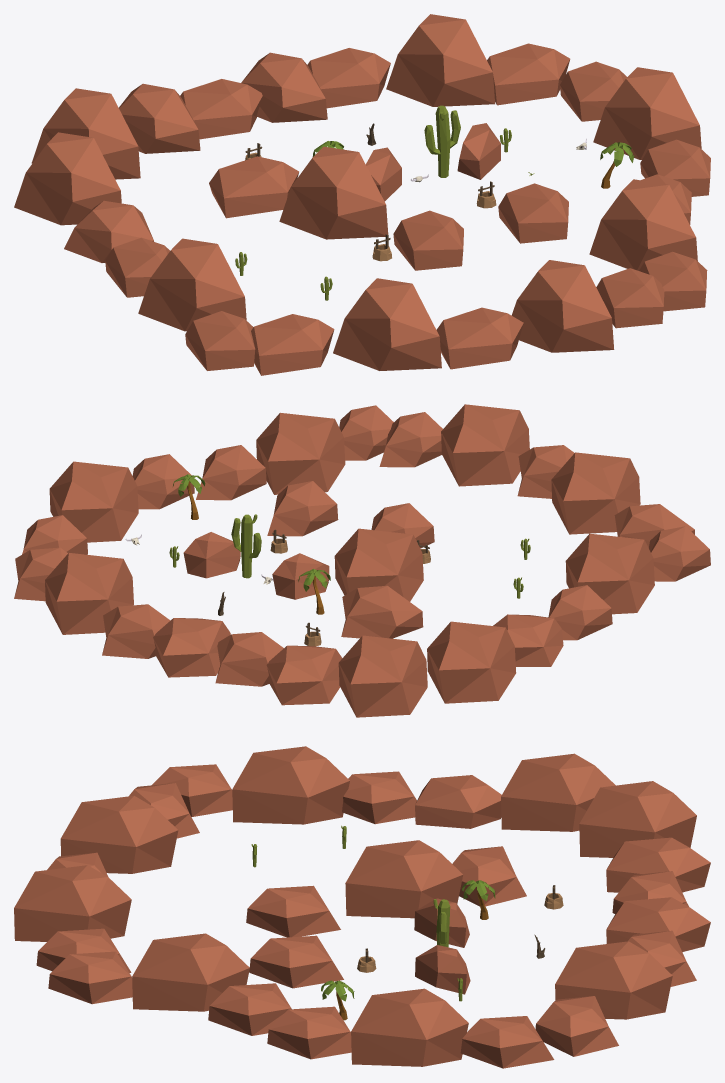
Rendered from Obstracle.fbx.
3 views of the same model, one above another, from view 1: azimuth 30°, elevation 25°; view 2: azimuth 150°, elevation 25°; view 3: azimuth 270°, elevation 25° (orthographic). The views are drawn at different scales.
Parts seen in each view (by area): view 1: Mixed_Rock_01__12_, Mixed_Rock_01__2_, Mixed_Rock_01__8_, Mixed_Rock_01__25_, Mixed_Rock_01__24_, Mixed_Rock_01__13_, Mixed_Rock_01__19_, Mixed_Rock_01__5_, Mixed_Rock_01__22_, Mixed_Rock_01_1, Mixed_Rock_01__18_, Mixed_Rock_01__10_ (+19 smaller); view 2: Mixed_Rock_01__24_, Mixed_Rock_01__22_, Mixed_Rock_01__25_, Mixed_Rock_01__12_, Mixed_Rock_01__19_, Mixed_Rock_01__8_, Mixed_Rock_01__5_, Mixed_Rock_01__13_, Mixed_Rock_01__2_, Mixed_Rock_01__18_, Mixed_Rock_01_1, Mixed_Rock_01__1_ (+20 smaller); view 3: Mixed_Rock_01__5_, Mixed_Rock_01__13_, Mixed_Rock_01__2_, Mixed_Rock_01__19_, Mixed_Rock_01__25_, Mixed_Rock_01__12_, Mixed_Rock_01__8_, Mixed_Rock_01__24_, Mixed_Rock_01__22_, Mixed_Rock_01__16_, Mixed_Rock_01__18_, Mixed_Rock_01_1 (+20 smaller).
Part boxes in pixels (<box>): Mixed_Rock_01__12_: <box>333,278,441,370</box>; Mixed_Rock_01__2_: <box>279,146,388,239</box>; Mixed_Rock_01__8_: <box>386,14,494,106</box>; Mixed_Rock_01__25_: <box>511,260,614,352</box>; Mixed_Rock_01__24_: <box>14,132,121,225</box>; Mixed_Rock_01__13_: <box>138,238,246,331</box>; Mixed_Rock_01__19_: <box>589,179,697,270</box>; Mixed_Rock_01__5_: <box>593,67,701,159</box>; Mixed_Rock_01__22_: <box>31,88,140,179</box>; Mixed_Rock_01_1: <box>241,52,327,122</box>; Mixed_Rock_01__18_: <box>119,83,200,153</box>; Mixed_Rock_01__10_: <box>436,307,523,369</box>; Mixed_Rock_01__24_: <box>427,621,516,703</box>; Mixed_Rock_01__22_: <box>338,635,427,717</box>; Mixed_Rock_01__25_: <box>441,404,529,486</box>; Mixed_Rock_01__12_: <box>551,452,640,534</box>; Mixed_Rock_01__19_: <box>256,412,345,494</box>; Mixed_Rock_01__8_: <box>45,553,133,634</box>; Mixed_Rock_01__5_: <box>49,461,138,542</box>; Mixed_Rock_01__13_: <box>565,533,654,614</box>; Mixed_Rock_01__2_: <box>334,528,423,601</box>; Mixed_Rock_01__18_: <box>266,645,342,705</box>; Mixed_Rock_01_1: <box>153,618,230,677</box>; Mixed_Rock_01__1_: <box>341,585,423,638</box>; Mixed_Rock_01__5_: <box>351,988,468,1066</box>; Mixed_Rock_01__13_: <box>232,746,349,824</box>; Mixed_Rock_01__2_: <box>345,840,463,918</box>; Mixed_Rock_01__19_: <box>132,933,249,1011</box>; Mixed_Rock_01__25_: <box>14,865,131,941</box>; Mixed_Rock_01__12_: <box>60,795,178,873</box>; Mixed_Rock_01__8_: <box>555,941,672,1019</box>; Mixed_Rock_01__24_: <box>501,753,615,831</box>; Mixed_Rock_01__22_: <box>579,781,696,857</box>; Mixed_Rock_01__16_: <box>415,775,501,828</box>; Mixed_Rock_01__18_: <box>606,837,710,892</box>; Mixed_Rock_01_1: <box>606,897,710,951</box>.
Size of the model in its own units: 10877 by 1223 by 11208.
1 material, 1 textured.
